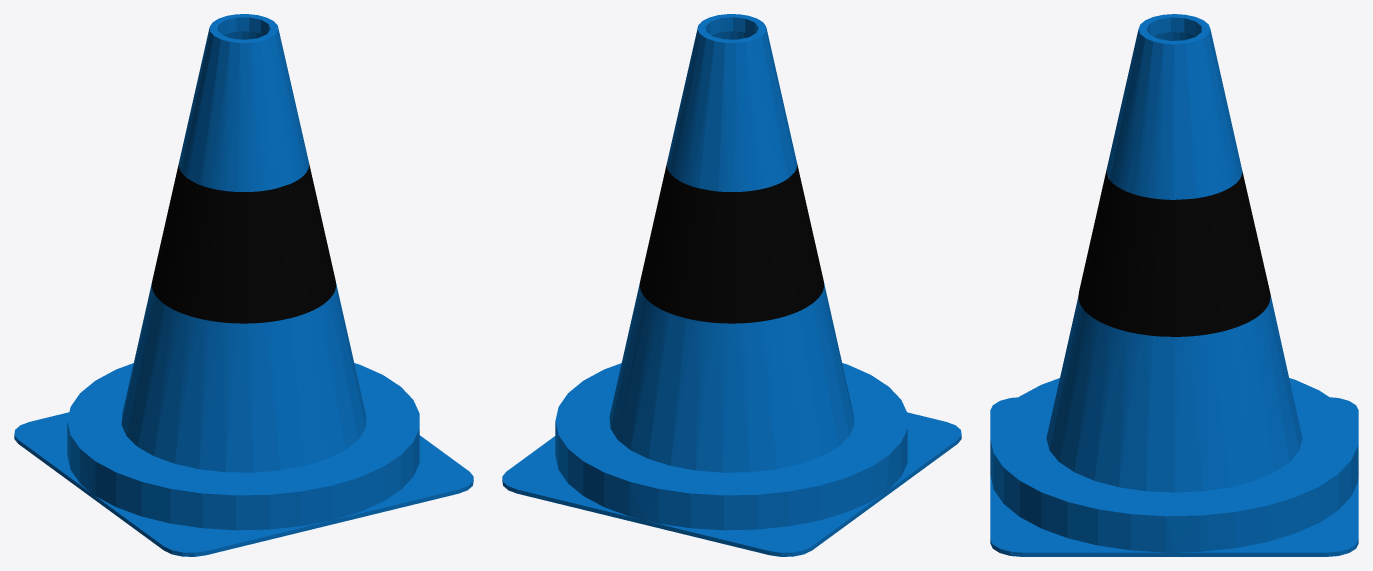
Rendered from blue.fbx.
3 views of the same model, side by side, from view 1: azimuth 30°, elevation 25°; view 2: azimuth 150°, elevation 25°; view 3: azimuth 270°, elevation 25° (orthographic). The views are drawn at different scales.
Parts seen in each view (by area): view 1: yellow cone stl; view 2: yellow cone stl; view 3: yellow cone stl.
Boxes of the visible parts, <box> form: yellow cone stl: <box>14,14,473,556</box>; yellow cone stl: <box>502,14,961,556</box>; yellow cone stl: <box>990,14,1358,556</box>.
Size of the model in its own units: 23 by 31 by 23.
